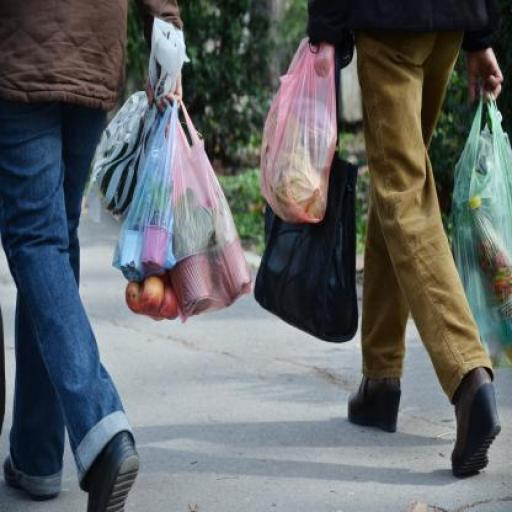plastic bag: (101, 20, 261, 343), (260, 28, 358, 361), (449, 59, 511, 383)
